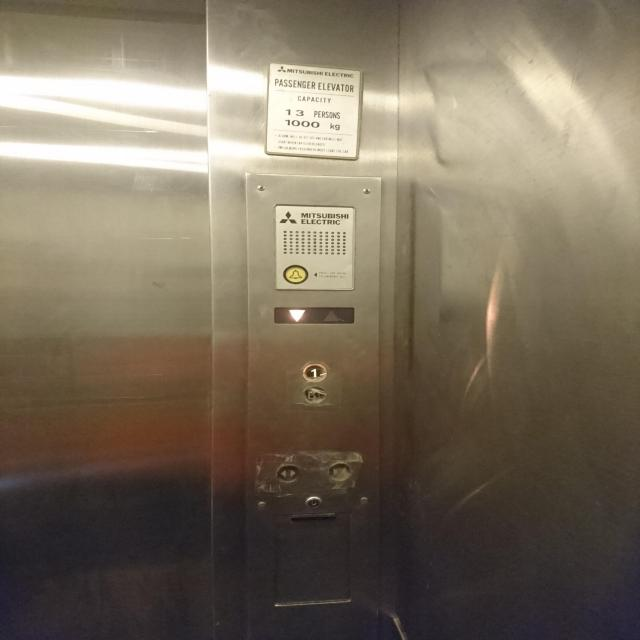1: (303, 362, 327, 382)
B1: (301, 386, 327, 404)
alarm: (280, 261, 310, 284)
close: (327, 462, 351, 482)
keyhole: (303, 496, 322, 510)
led: (272, 304, 356, 326)
open: (276, 463, 300, 482)
